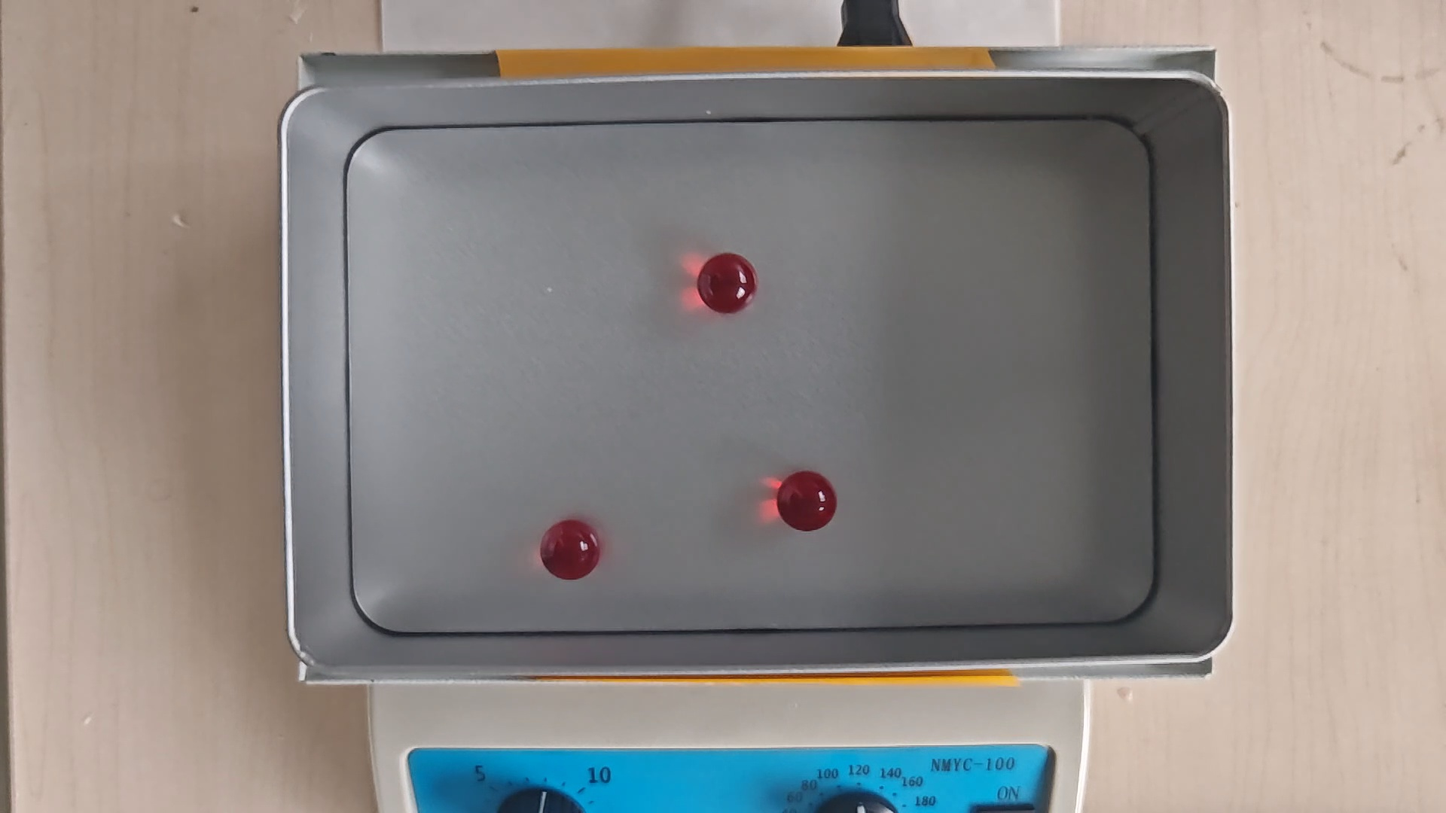ball: (698, 251, 757, 315), (776, 473, 836, 531), (541, 519, 599, 578)
container: (340, 117, 1161, 629)
